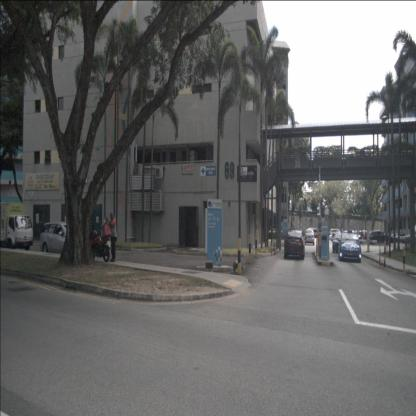cone: (378, 249, 382, 268), (270, 241, 273, 257), (274, 242, 276, 258)
